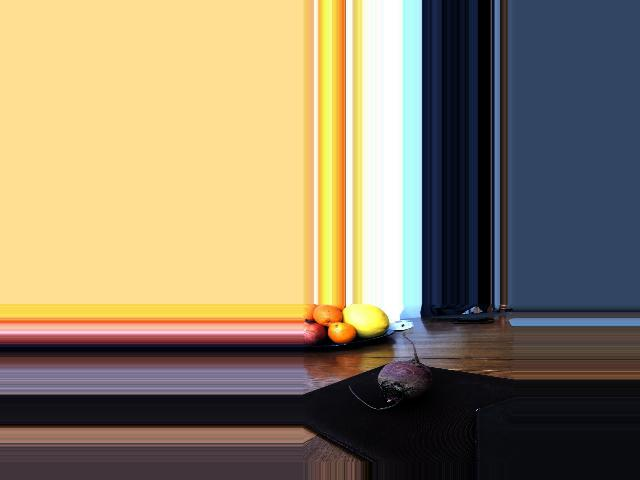beet: (349, 336, 432, 410)
